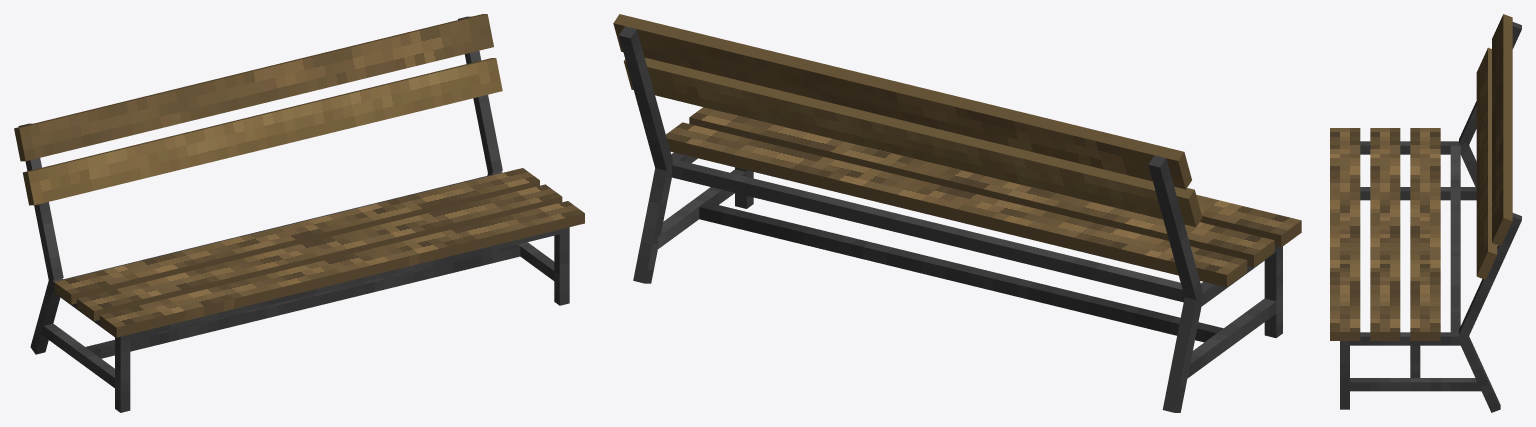
The model's file is bench.glb.
3 renders of one model, left to right at view 1: azimuth 30°, elevation 25°; view 2: azimuth 150°, elevation 25°; view 3: azimuth 270°, elevation 25°, orthographic. The views are drawn at different scales.
Parts seen in each view (by area): view 1: cube_16, cube_17, cube_13, cube_14, cube_15, cube_6, cube_7, cube_4, cube_12, cube_2, cube_1, cube_9 (+3 smaller); view 2: cube_16, cube_17, cube_15, cube_14, cube_8, cube_6, cube_2, cube_12, cube_13, cube_0, cube_11, cube_4 (+2 smaller); view 3: cube_13, cube_14, cube_15, cube_16, cube_17, cube_8, cube_5, cube_12, cube_11, cube_10, cube_4, cube_9 (+4 smaller).
Part boxes in pixels (x1=…): cube_16: x1=14, y1=14, x2=493, y2=161; cube_17: x1=22, y1=58, x2=502, y2=205; cube_13: x1=99, y1=201, x2=584, y2=337; cube_14: x1=77, y1=184, x2=562, y2=320; cube_15: x1=54, y1=168, x2=539, y2=304; cube_6: x1=86, y1=244, x2=520, y2=358; cube_7: x1=130, y1=229, x2=560, y2=338; cube_4: x1=41, y1=323, x2=114, y2=387; cube_12: x1=458, y1=16, x2=502, y2=172; cube_2: x1=18, y1=123, x2=63, y2=280; cube_1: x1=115, y1=334, x2=130, y2=412; cube_9: x1=554, y1=227, x2=569, y2=305; cube_16: x1=613, y1=14, x2=1191, y2=189; cube_17: x1=623, y1=57, x2=1202, y2=227; cube_15: x1=666, y1=122, x2=1247, y2=287; cube_14: x1=689, y1=107, x2=1274, y2=267; cube_8: x1=672, y1=160, x2=1184, y2=302; cube_6: x1=699, y1=202, x2=1223, y2=342; cube_2: x1=1148, y1=155, x2=1202, y2=299; cube_12: x1=619, y1=26, x2=672, y2=170; cube_13: x1=1196, y1=194, x2=1301, y2=247; cube_0: x1=1162, y1=293, x2=1202, y2=412; cube_11: x1=633, y1=164, x2=672, y2=283; cube_4: x1=1187, y1=298, x2=1276, y2=378; cube_13: x1=1330, y1=128, x2=1360, y2=340; cube_14: x1=1370, y1=128, x2=1400, y2=340; cube_15: x1=1410, y1=128, x2=1440, y2=340; cube_16: x1=1492, y1=14, x2=1512, y2=246; cube_17: x1=1476, y1=47, x2=1497, y2=279; cube_8: x1=1450, y1=145, x2=1460, y2=332; cube_5: x1=1350, y1=378, x2=1481, y2=391; cube_12: x1=1459, y1=213, x2=1521, y2=337; cube_11: x1=1457, y1=332, x2=1500, y2=412; cube_10: x1=1350, y1=332, x2=1460, y2=345; cube_4: x1=1360, y1=187, x2=1476, y2=200; cube_9: x1=1340, y1=341, x2=1349, y2=409.
Size of the model in its own units: 3 by 1.37 by 1.19.
1 material, 1 textured.
